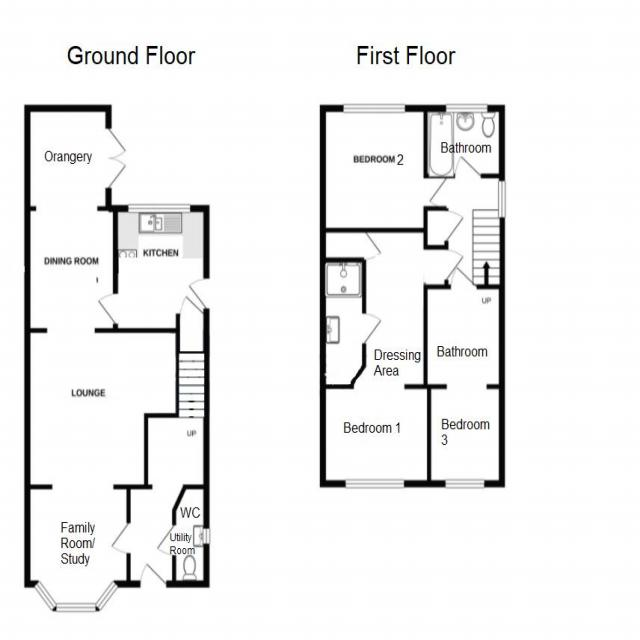DOOR: (139, 561, 168, 588), (96, 291, 118, 326), (187, 277, 210, 310), (109, 521, 131, 555), (449, 265, 478, 290), (362, 312, 383, 346), (427, 177, 449, 209), (155, 524, 176, 557), (454, 154, 482, 178)
ROOM: (24, 206, 180, 613), (320, 105, 449, 233), (96, 204, 210, 333), (320, 384, 432, 488), (427, 384, 505, 489)
WINDOW: (33, 579, 120, 613), (342, 103, 406, 114), (127, 203, 191, 214), (445, 103, 488, 114), (444, 478, 485, 489), (497, 180, 506, 219), (202, 527, 210, 545)
